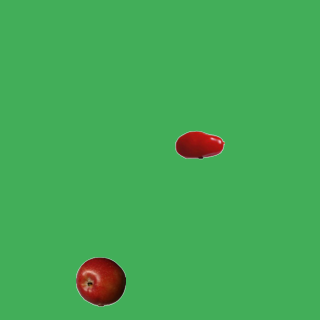Apple Braeburn: (75, 256, 125, 306)
Tomato 2: (174, 119, 224, 169)
